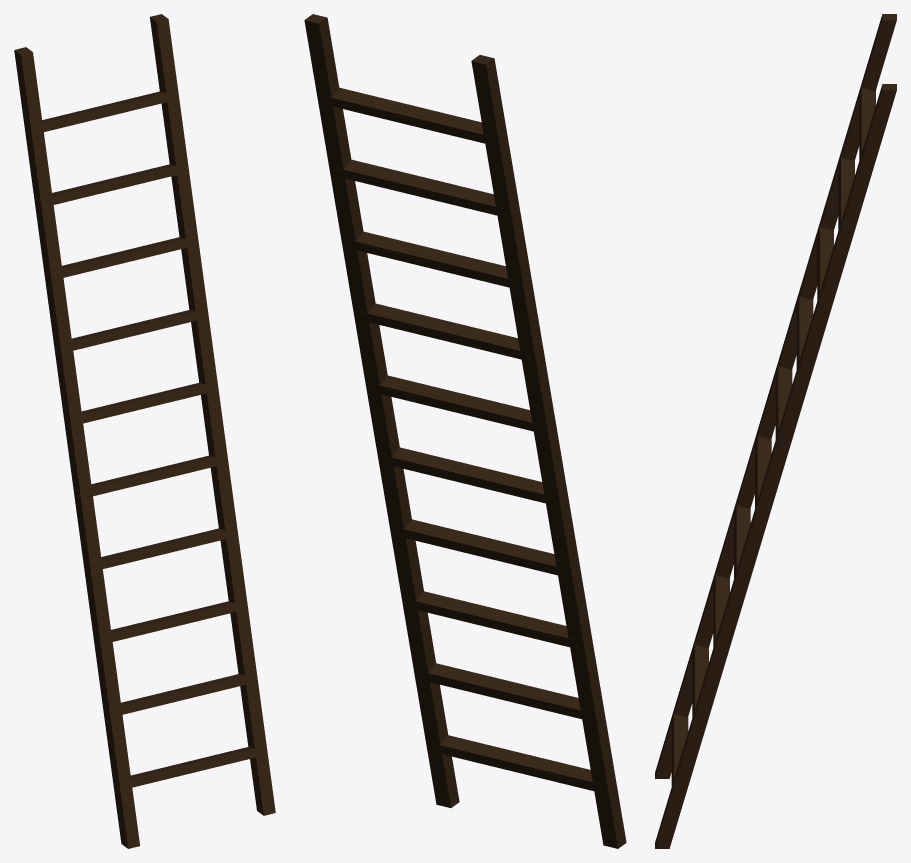
Rendered from Ladder_001.fbx.
3 views of the same model, side by side, from view 1: azimuth 30°, elevation 25°; view 2: azimuth 150°, elevation 25°; view 3: azimuth 270°, elevation 25° (orthographic). The views are drawn at different scales.
Visible parts, largest first — view 1: ladder_001; view 2: ladder_001; view 3: ladder_001.
Boxes of the visible parts, x1,y1,x2,y2 form: ladder_001: (14, 14, 275, 848); ladder_001: (304, 14, 626, 848); ladder_001: (655, 14, 896, 848).
Bounding box in the file's own units: 65.68 × 304 × 87.99.
